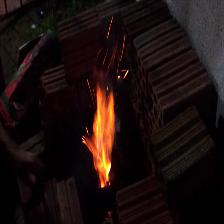fire: (73, 69, 129, 195)
